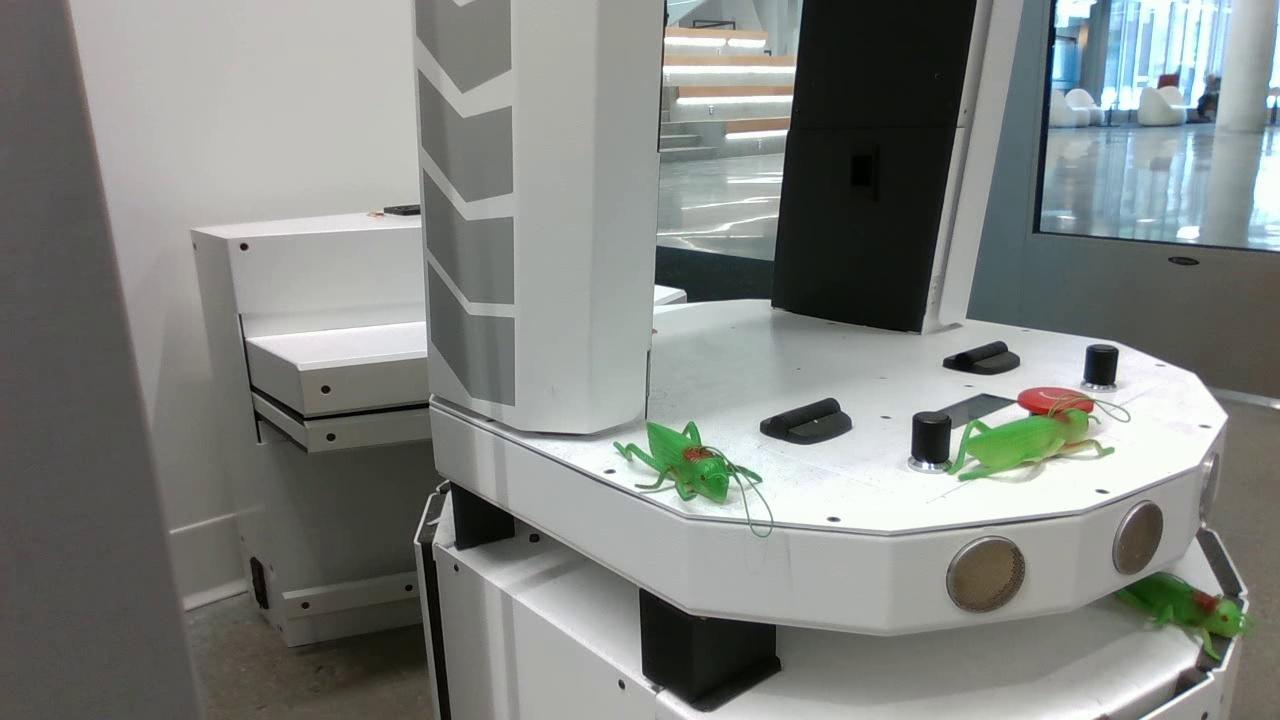grasshopper: (943, 404, 1118, 482), (612, 419, 766, 503), (1118, 573, 1254, 658)
